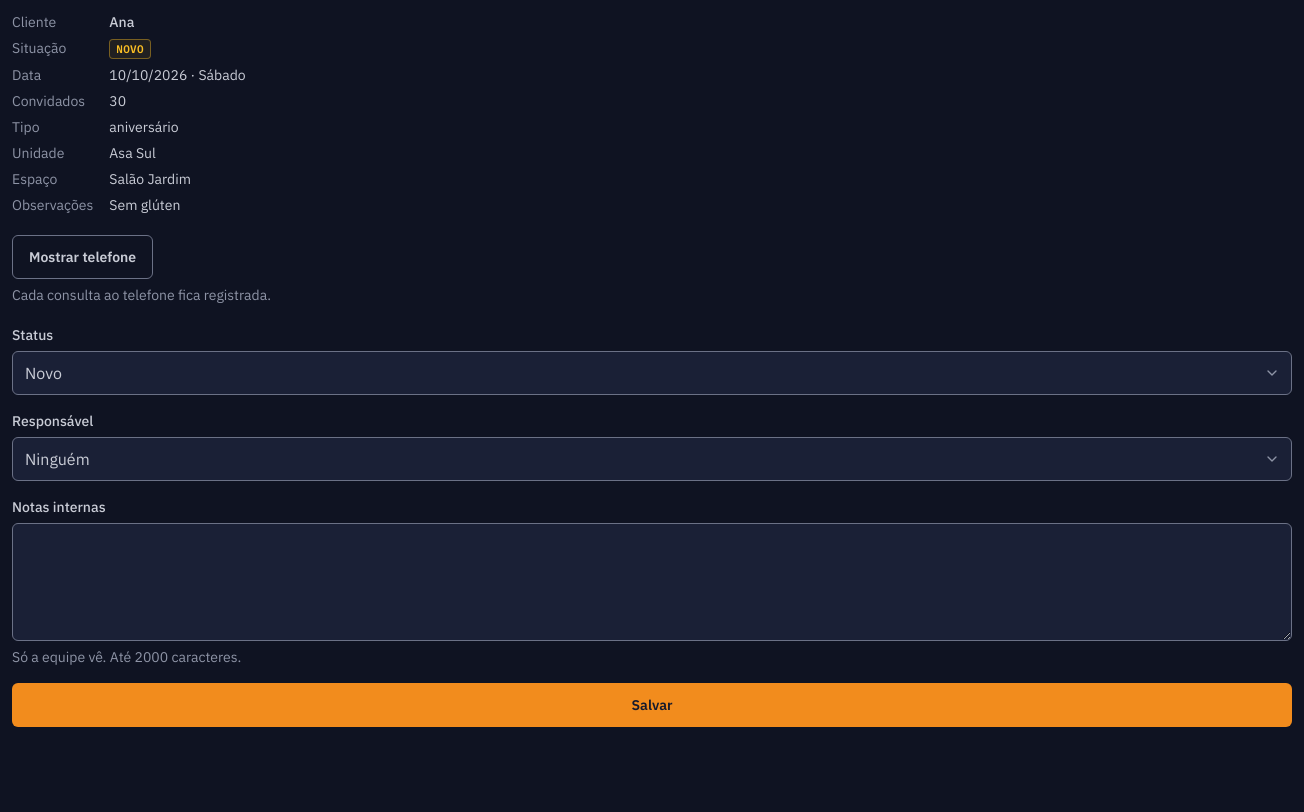
Test: PedidoDetalhe › transição inválida do servidor aparece no campo Status
Click the button "Salvar": click(652, 705) [12,683,1292,727]
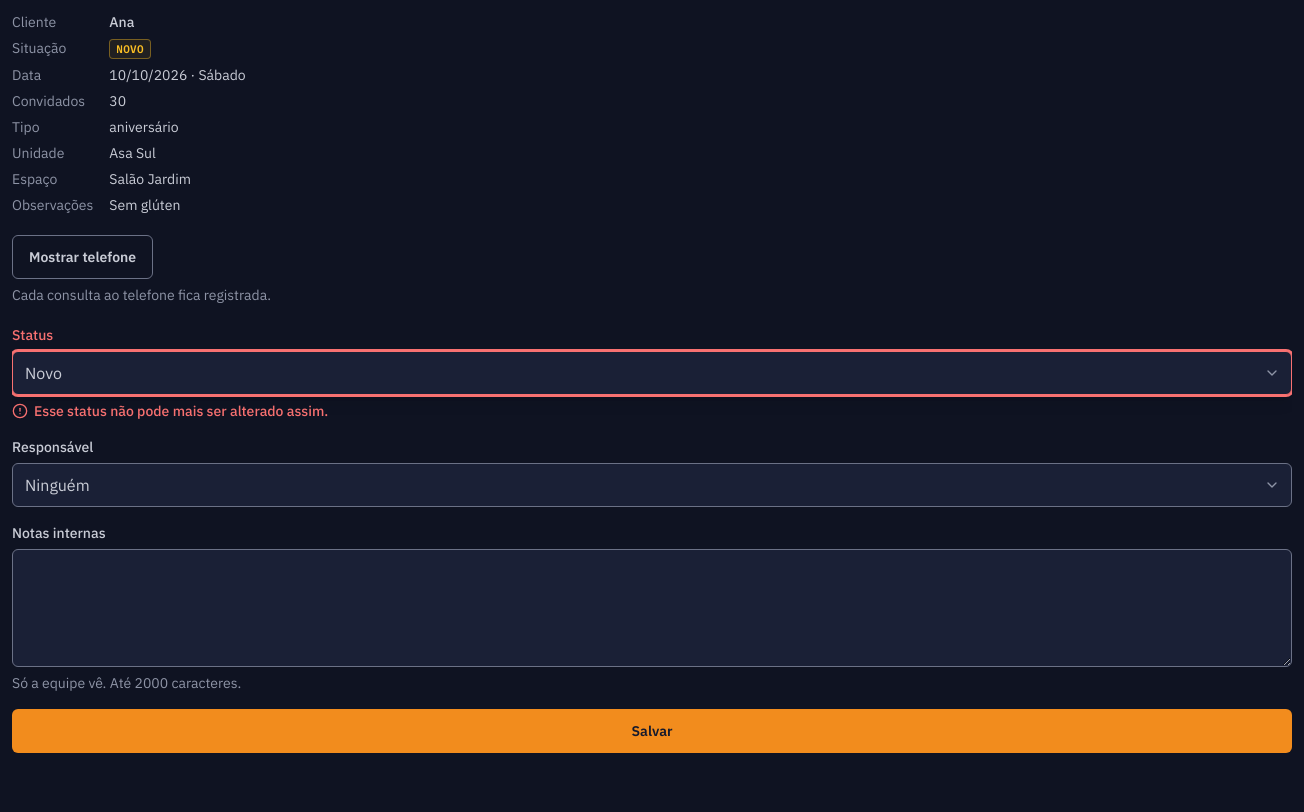
Expected: the text "Esse status não pode mais ser alterado assim." is shown, [12,402,328,420]
